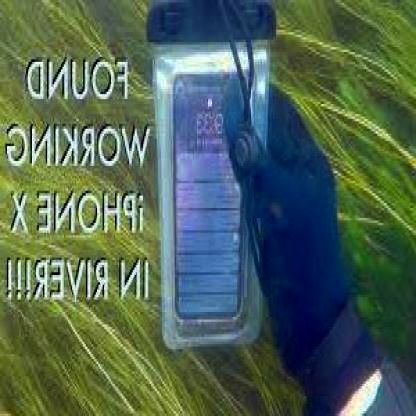cellphone: (168, 69, 255, 332)
